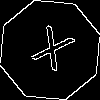X: (25, 25, 76, 81)
